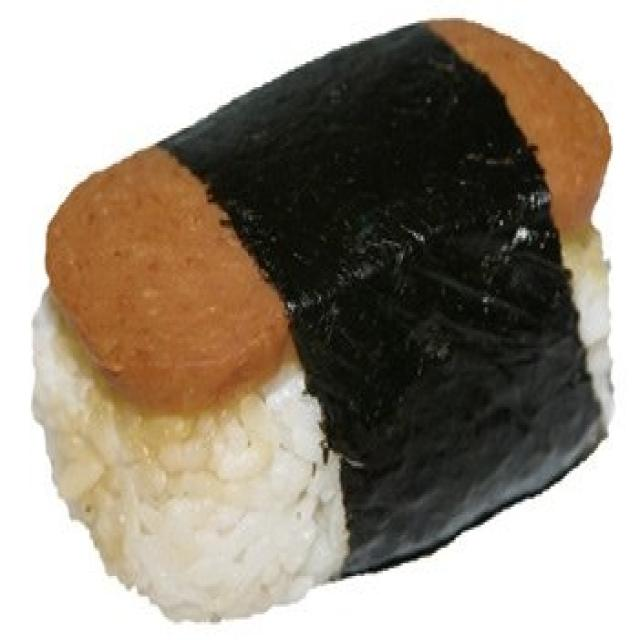寿司卷物: (26, 13, 624, 609)
